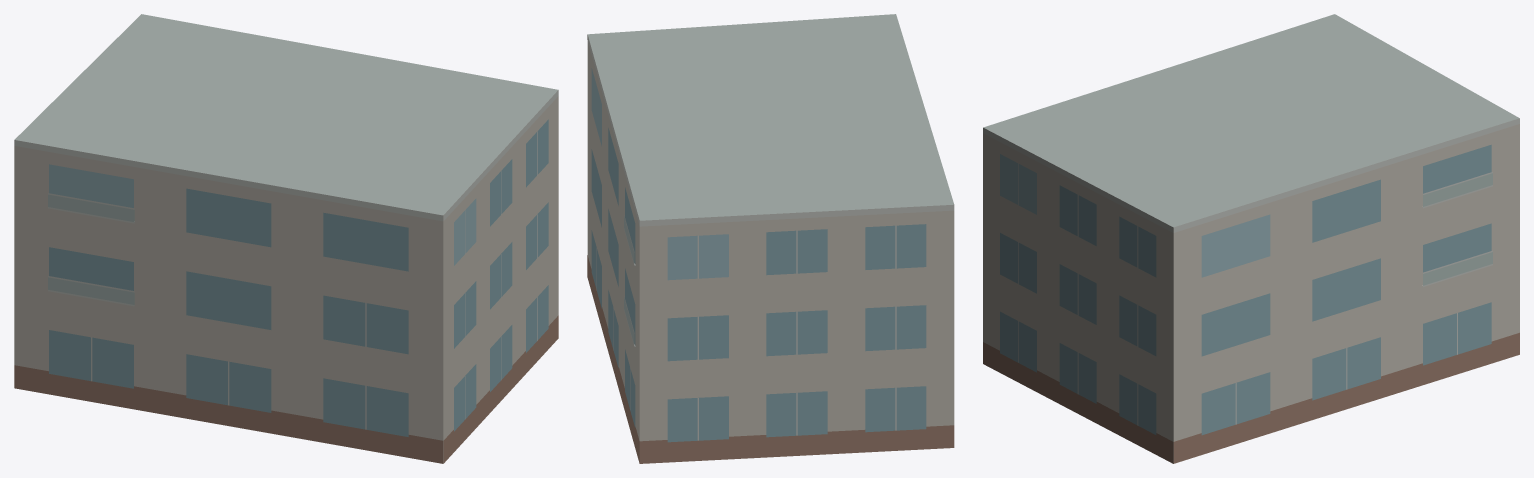
File: survey-upis-32581698.glb
3 renders of one model, left to right at view 1: azimuth 30°, elevation 25°; view 2: azimuth 150°, elevation 25°; view 3: azimuth 270°, elevation 25°, orthographic. The views are drawn at different scales.
Parts seen in each view (by area): view 1: survey-upis-32581698.tmp; view 2: survey-upis-32581698.tmp; view 3: survey-upis-32581698.tmp.
Boxes of the visible parts, left/top/right/bottom form: survey-upis-32581698.tmp: left=14, top=14, right=558, bottom=463; survey-upis-32581698.tmp: left=587, top=14, right=954, bottom=463; survey-upis-32581698.tmp: left=983, top=14, right=1519, bottom=463.
Size of the model in its own units: 19.75 by 10.2 by 20.99.
